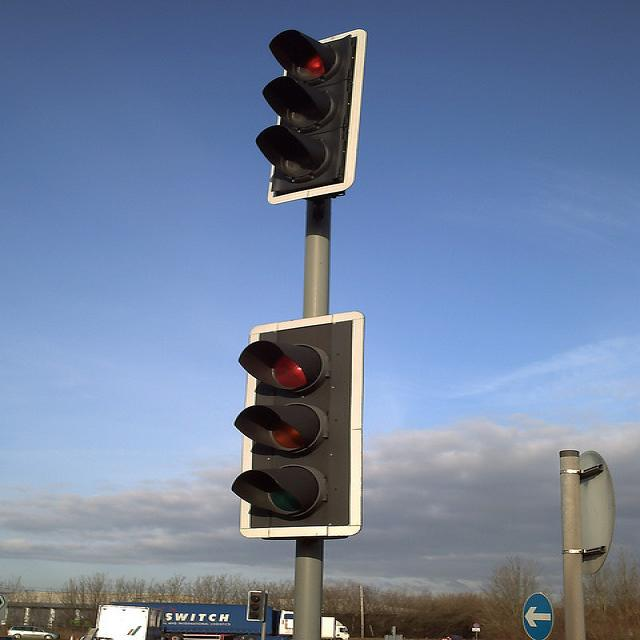Vehicle: (106, 599, 348, 640), (96, 605, 148, 640), (8, 625, 57, 637)
